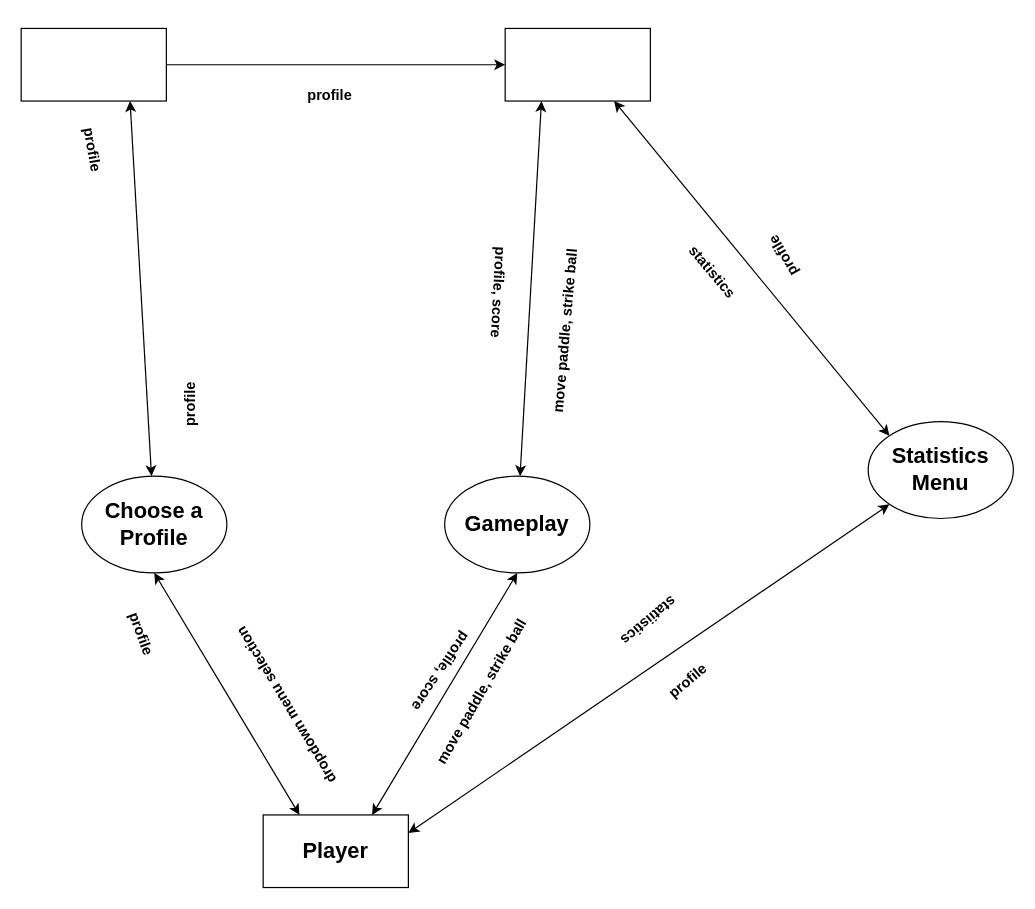
This 1035x909 diagram has some shape labels left out. Here are the shapes that lost their labels. From the top down, the centre of each, then its label:
At point 93,64: "Settings Database".
At point 577,64: "Statistics Database".
